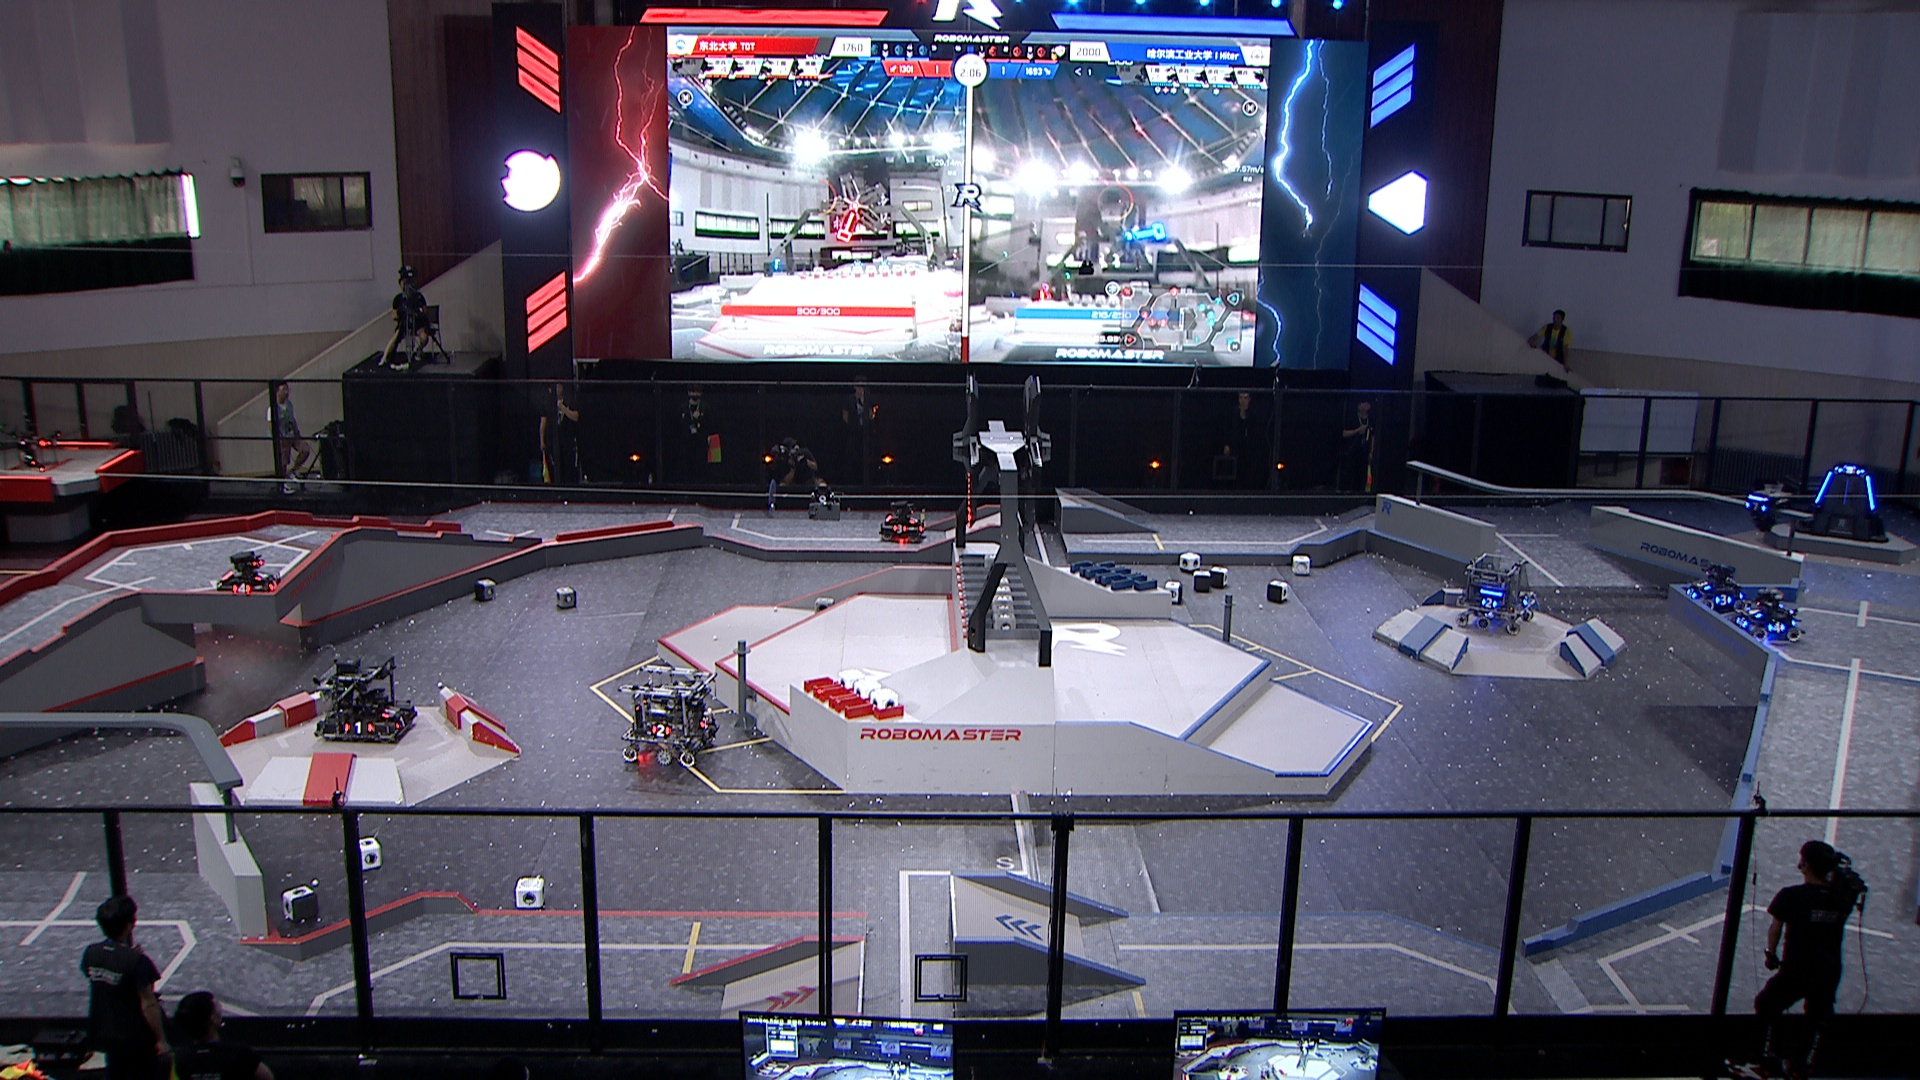armor: (1812, 465, 1837, 504), (1863, 471, 1879, 512), (340, 719, 376, 735), (389, 709, 411, 731), (376, 703, 400, 721), (647, 723, 673, 740), (1745, 500, 1768, 516), (1766, 618, 1789, 633), (252, 567, 272, 584), (1713, 591, 1733, 608), (1480, 595, 1501, 611), (1836, 465, 1863, 477), (1735, 612, 1751, 632), (889, 520, 910, 534), (228, 582, 253, 593), (266, 574, 284, 591), (1743, 603, 1762, 618), (1684, 585, 1702, 600), (1695, 579, 1712, 593), (699, 716, 713, 731), (906, 512, 920, 526), (1519, 593, 1534, 608)
base: (1795, 462, 1892, 546)
car: (615, 662, 727, 767), (311, 654, 422, 746), (1452, 549, 1538, 636), (1730, 585, 1809, 645), (215, 549, 284, 600), (1681, 562, 1741, 616), (876, 495, 930, 545)
watcher: (1741, 480, 1792, 534)
